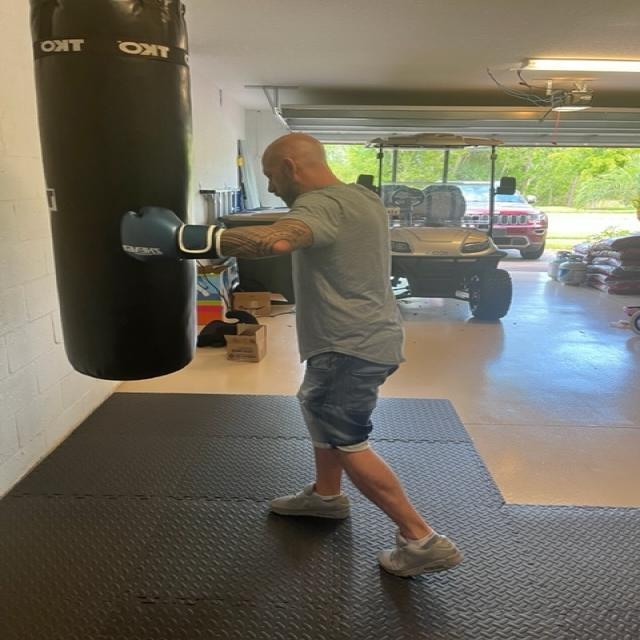hook: (104, 129, 406, 278)
